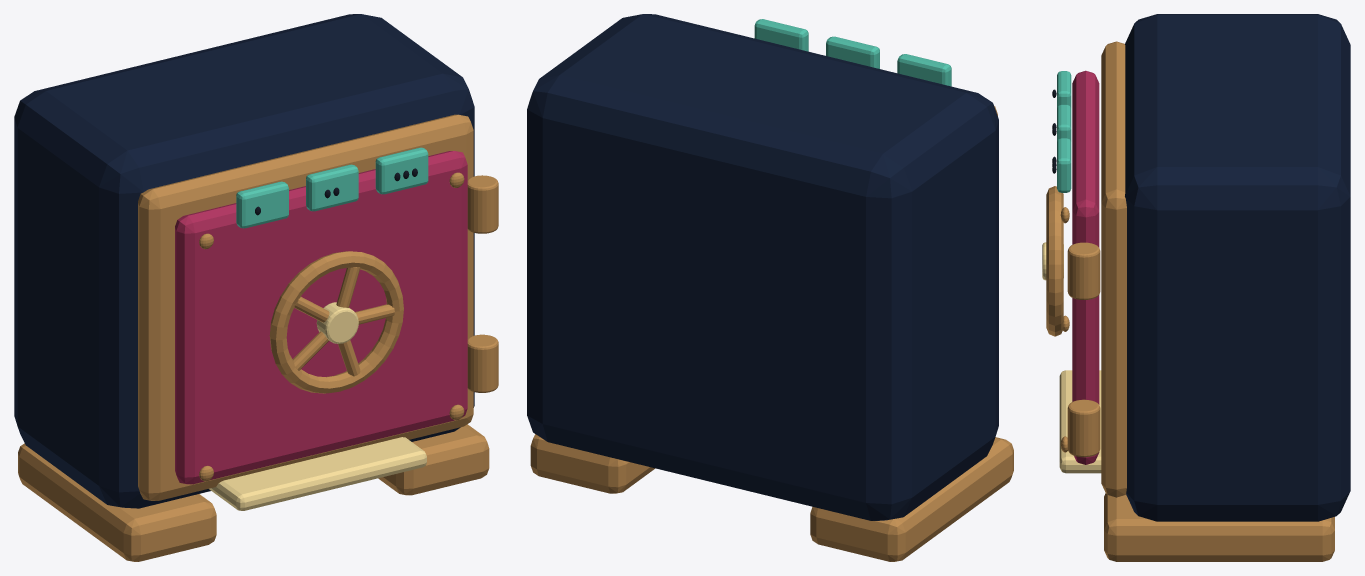
Rendered from CooperativeVault.fbx.
The picture shows the model from 3 angles, left to right: view 1: azimuth 30°, elevation 25°; view 2: azimuth 150°, elevation 25°; view 3: azimuth 270°, elevation 25°; orthographic projection. The views are drawn at different scales.
Visible parts, largest first — view 1: CooperativeVault.Mesh, CooperativeVault.Door.Mesh, CooperativeVault.Wheel.Mesh; view 2: CooperativeVault.Mesh; view 3: CooperativeVault.Mesh, CooperativeVault.Door.Mesh, CooperativeVault.Wheel.Mesh.
Part boxes in pixels (x1=…): CooperativeVault.Mesh: x1=14, y1=14, x2=498, y2=561; CooperativeVault.Door.Mesh: x1=175, y1=151, x2=467, y2=484; CooperativeVault.Wheel.Mesh: x1=269, y1=251, x2=403, y2=393; CooperativeVault.Mesh: x1=527, y1=14, x2=1013, y2=561; CooperativeVault.Mesh: x1=1052, y1=14, x2=1350, y2=561; CooperativeVault.Door.Mesh: x1=1060, y1=70, x2=1099, y2=464; CooperativeVault.Wheel.Mesh: x1=1042, y1=186, x2=1063, y2=336.
Bounding box in the file's own units: 235 × 237 × 170.
